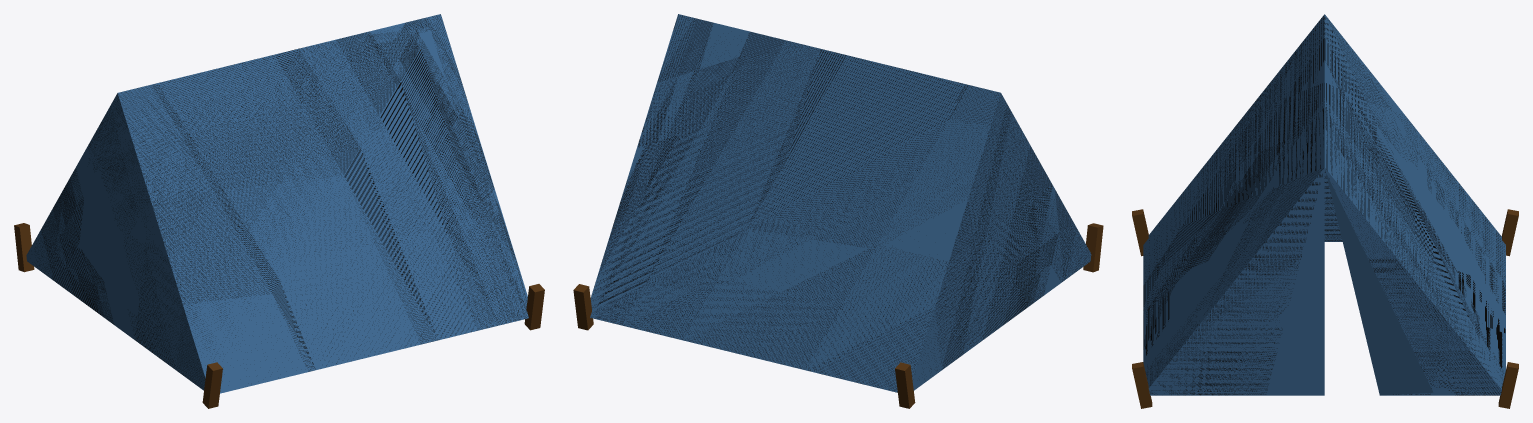
The model's file is ForestTent_03.fbx.
3 views of the same model, side by side, from view 1: azimuth 30°, elevation 25°; view 2: azimuth 150°, elevation 25°; view 3: azimuth 270°, elevation 25° (orthographic). The views are drawn at different scales.
Parts seen in each view (by area): view 1: ForestTent_03; view 2: ForestTent_03; view 3: ForestTent_03.
Boxes of the visible parts, left/top/right/bottom form: ForestTent_03: left=14, top=14, right=544, bottom=408; ForestTent_03: left=573, top=14, right=1103, bottom=408; ForestTent_03: left=1132, top=14, right=1518, bottom=408.
Size of the model in its own units: 35.43 by 24.25 by 35.53.
